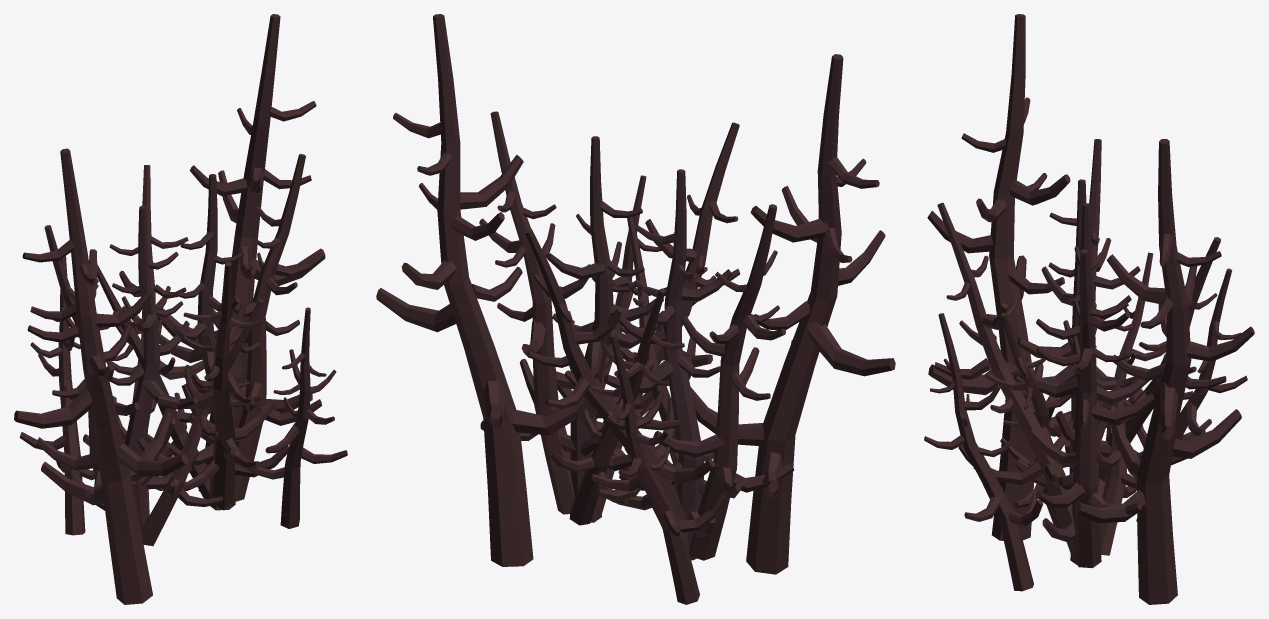
The model's file is deadbush.fbx.
The picture shows the model from 3 angles, left to right: view 1: azimuth 30°, elevation 25°; view 2: azimuth 150°, elevation 25°; view 3: azimuth 270°, elevation 25°; orthographic projection. The views are drawn at different scales.
Visible parts, largest first — view 1: Cylinder.017; view 2: Cylinder.017; view 3: Cylinder.017.
Part boxes in pixels (bbox=[...]): Cylinder.017: bbox=[14, 14, 347, 604]; Cylinder.017: bbox=[376, 14, 895, 604]; Cylinder.017: bbox=[924, 14, 1254, 604].
Size of the model in its own units: 208 by 252 by 149.
